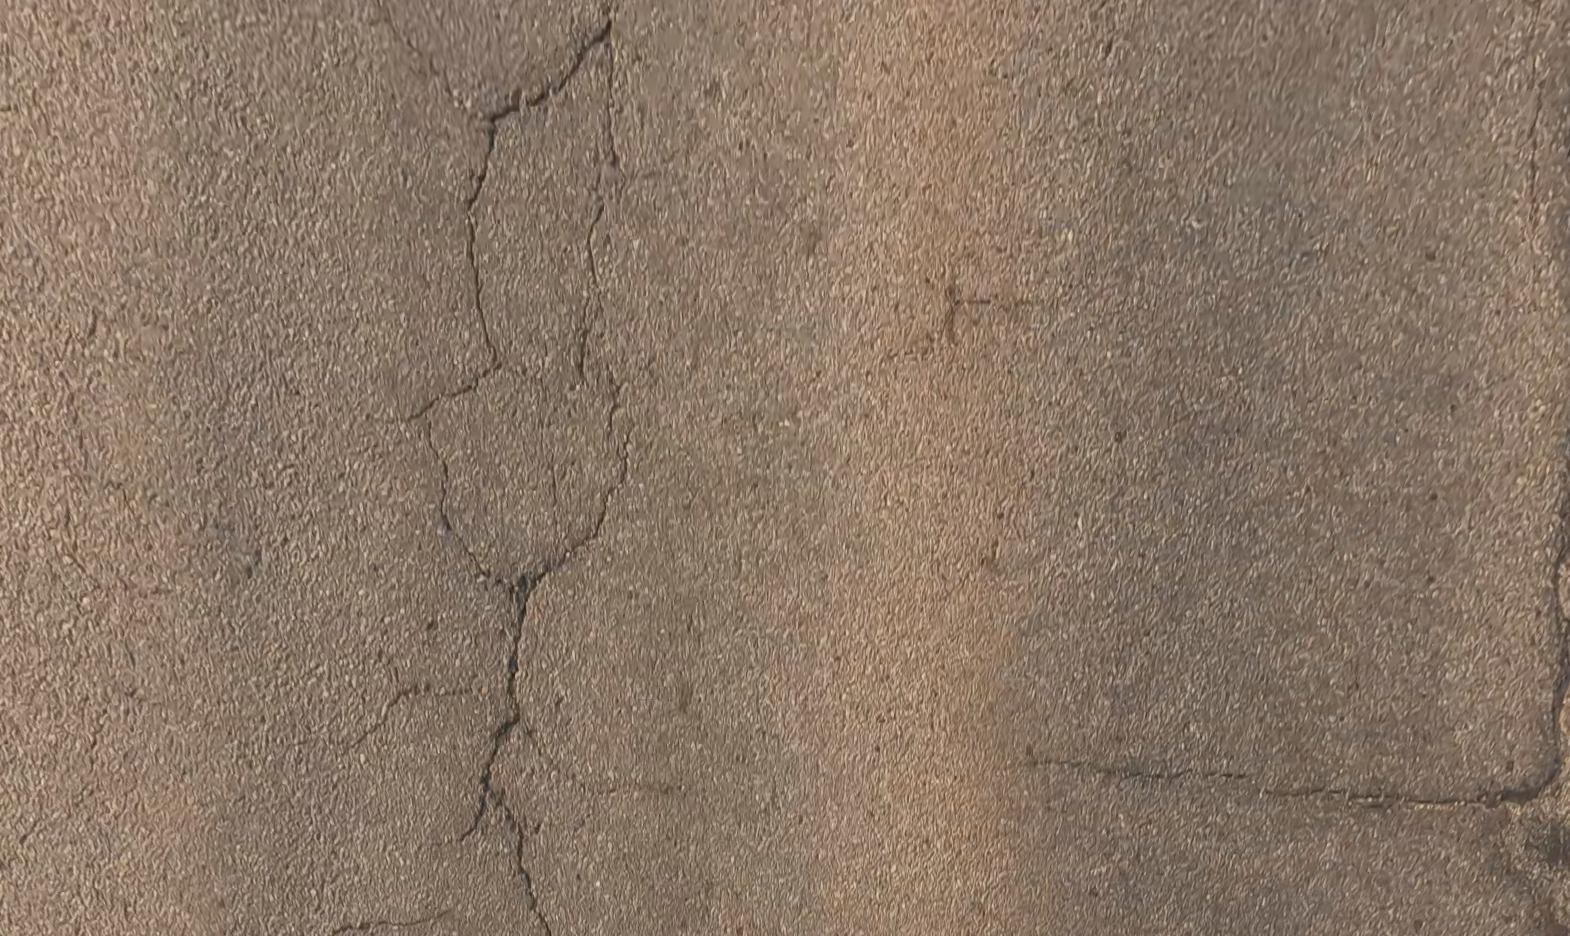pothole: (1505, 682, 1570, 935)
